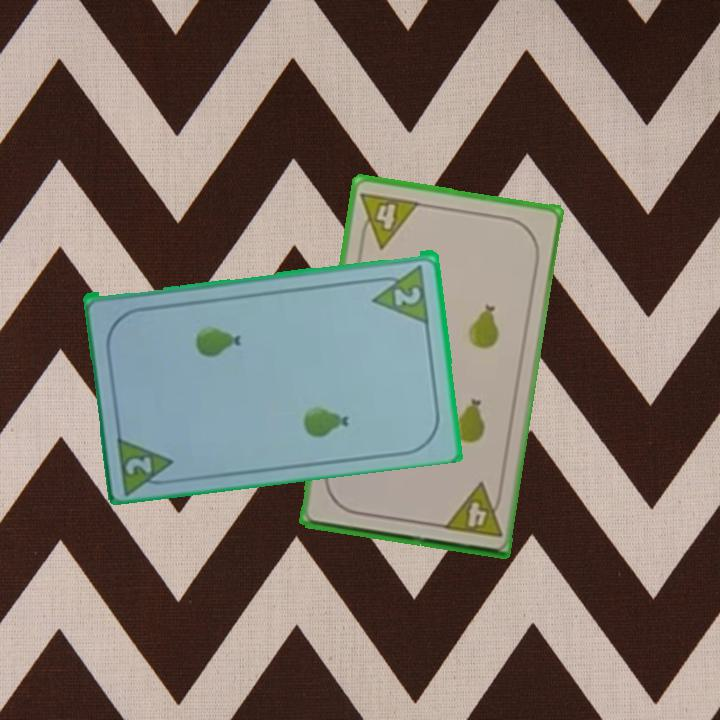2p: (114, 429, 180, 494), (391, 282, 424, 308)
4p: (355, 188, 422, 251), (439, 480, 505, 541)
